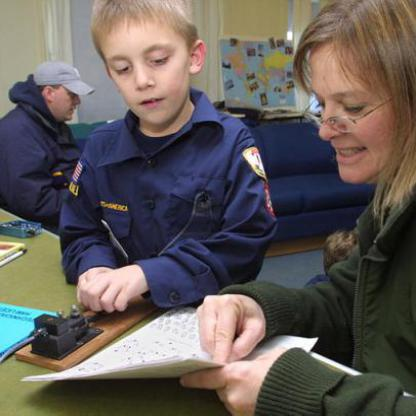face: (302, 10, 415, 189), (105, 1, 191, 127)
